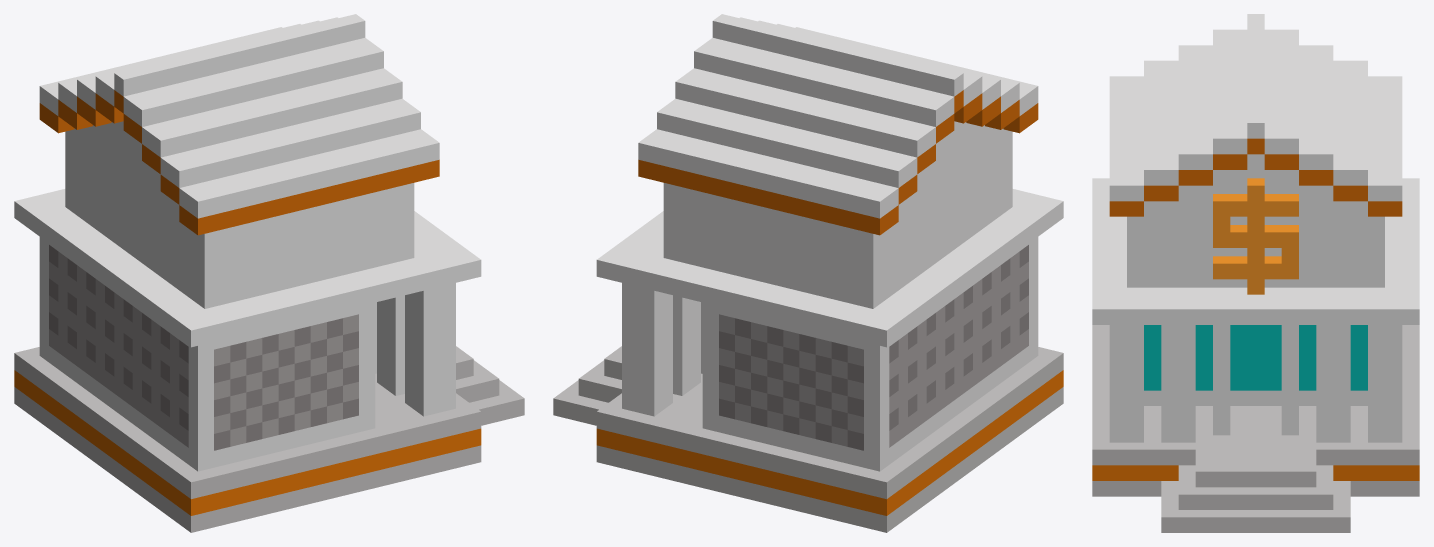
File: Bank.fbx
The picture shows the model from 3 angles, left to right: view 1: azimuth 30°, elevation 25°; view 2: azimuth 150°, elevation 25°; view 3: azimuth 270°, elevation 25°; orthographic projection. The views are drawn at different scales.
Parts seen in each view (by area): view 1: Untitled; view 2: Untitled; view 3: Untitled.
Boxes of the visible parts, x1,y1,x2,y2 form: Untitled: [14, 14, 524, 532]; Untitled: [553, 14, 1063, 532]; Untitled: [1092, 14, 1419, 532].
Bounding box in the file's own units: 460 × 460 × 380.
